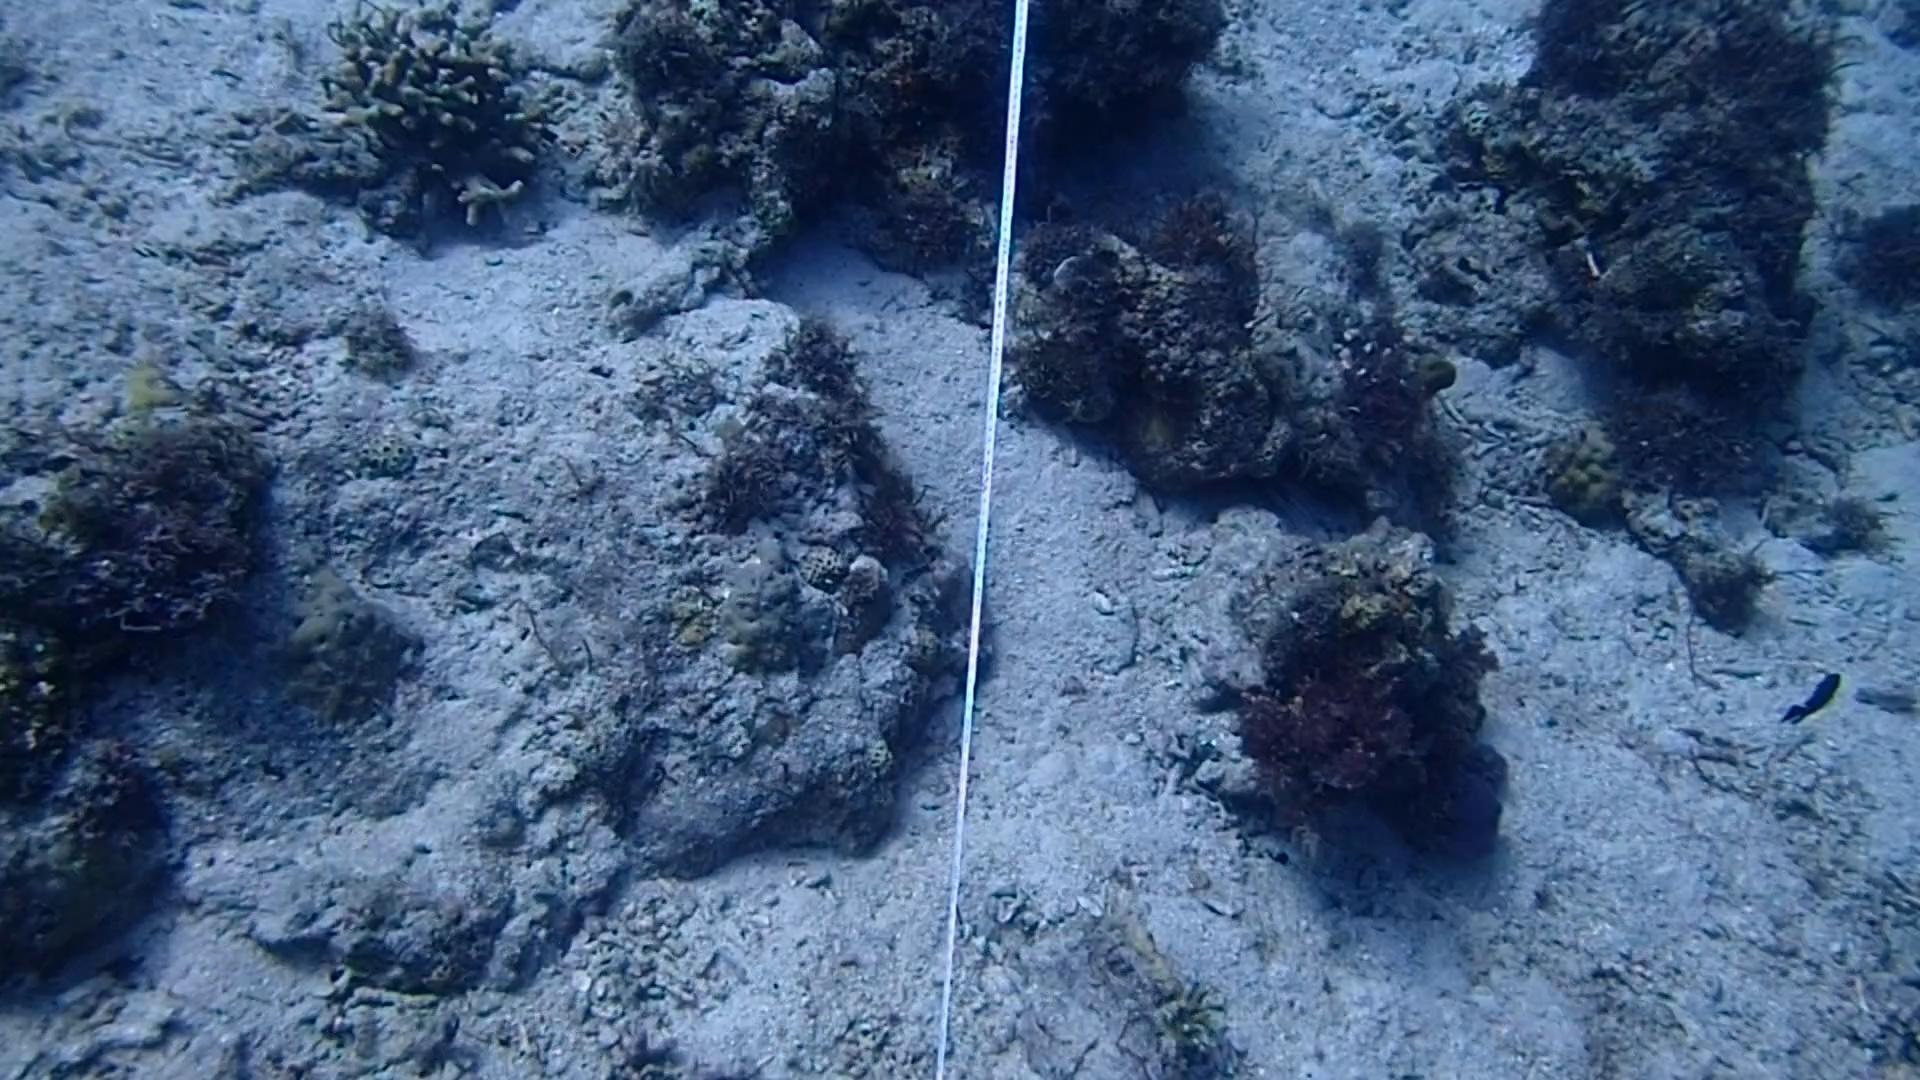Dark Fish: (1763, 658, 1854, 744)
